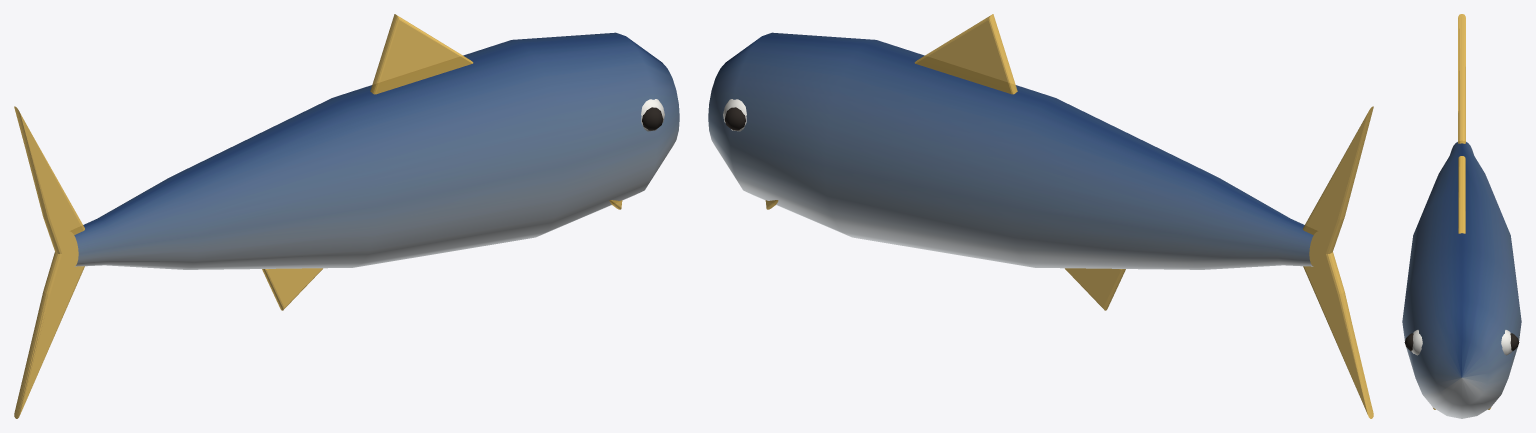
Rendered from tuna.glb.
3 views of the same model, side by side, from view 1: azimuth 30°, elevation 25°; view 2: azimuth 150°, elevation 25°; view 3: azimuth 270°, elevation 25° (orthographic). The views are drawn at different scales.
Parts seen in each view (by area): view 1: fish; view 2: fish; view 3: fish.
Part boxes in pixels (x1=…): fish: x1=14, y1=14, x2=679, y2=418; fish: x1=708, y1=14, x2=1373, y2=418; fish: x1=1402, y1=14, x2=1521, y2=418.
Bounding box in the file's own units: 1.75 × 0.7908 × 0.36.
4 materials, 1 textured.
